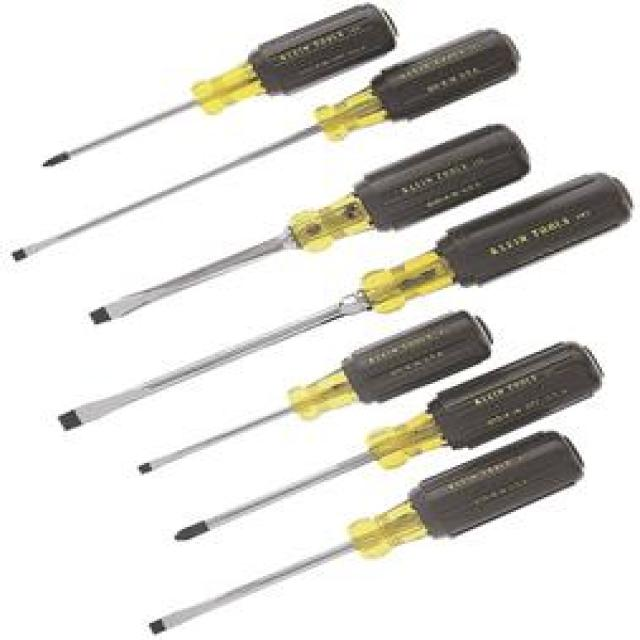screw driver: (28, 5, 597, 197), (109, 435, 635, 640)
